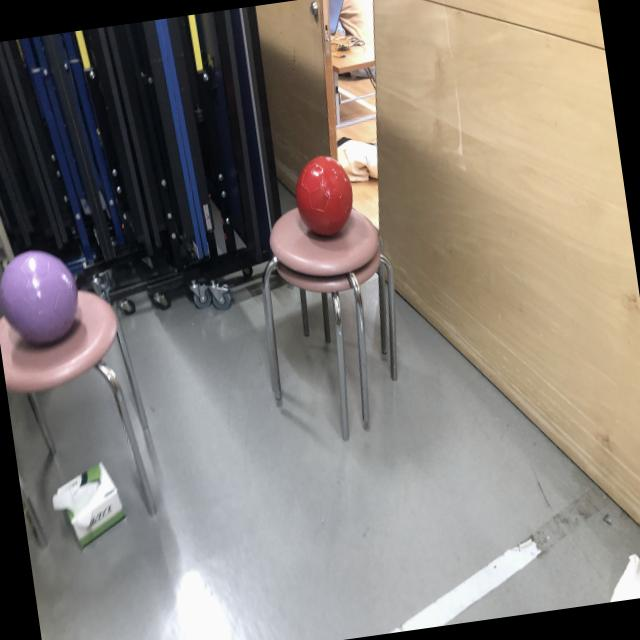purple_ball: (0, 244, 85, 351)
red_ball: (290, 150, 358, 240)
